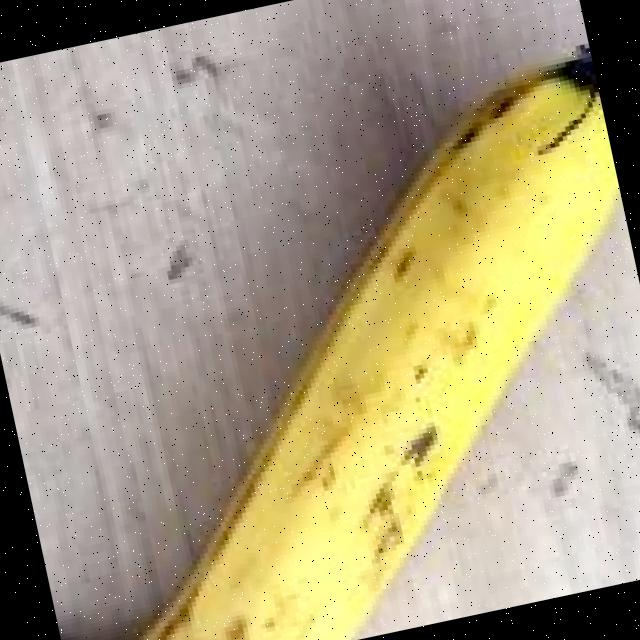Good_Banana-2-3 days: (131, 46, 618, 640)
